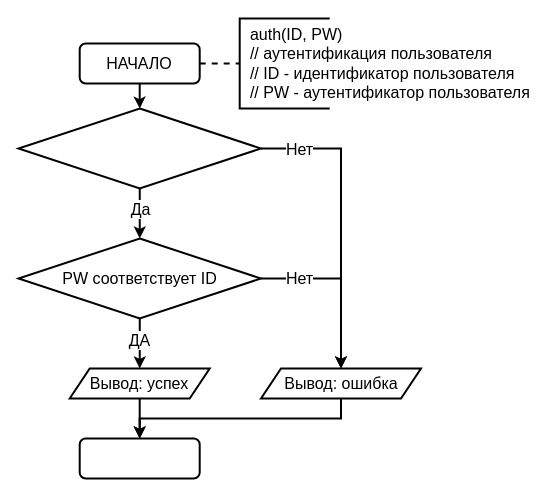
Some shapes in this 548 by 496 pixel diagram are drawn without their labels. The box of each missing label's shape, as (x1, y1, x2, y2) in pixels:
ID существует: (17, 107, 262, 189)
КОНЕЦ: (78, 437, 200, 479)
